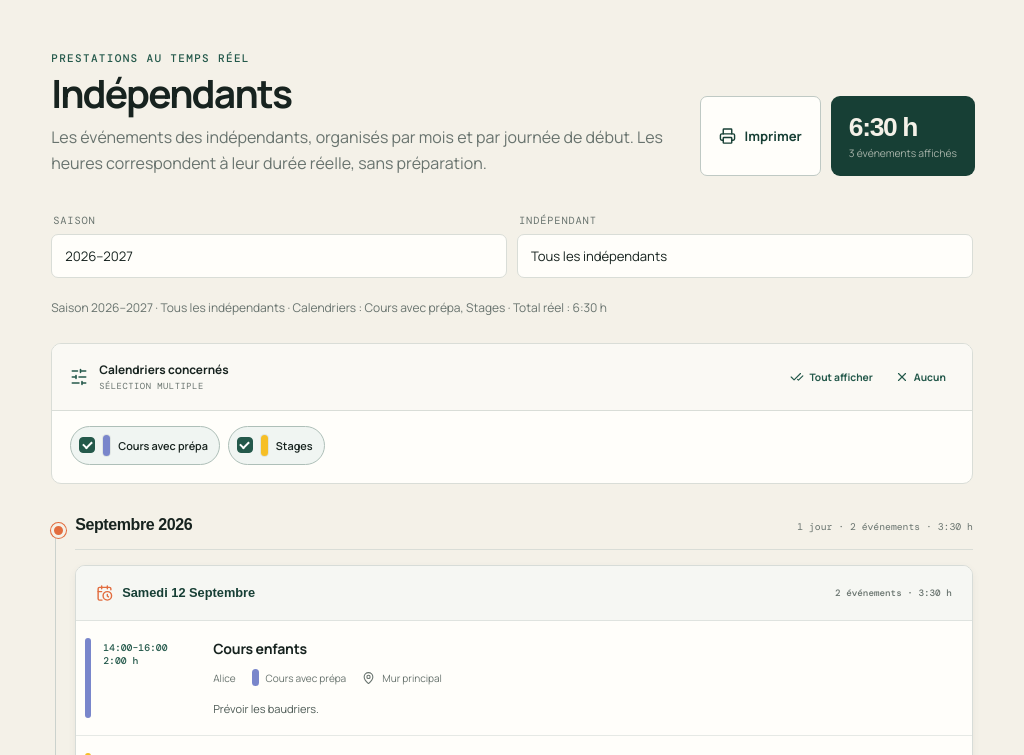
Test case: IndependentEventsPage › allows several source calendars to be selected independently
The width and height of the screenshot is (1024, 755).
Expected: the checkbox labelled "Stages" is checked, [228,426,324,465]
What coordinates should you click on to do the following:
click the checkbox labelled "Cours avec prépa"
I would click on:
 (145, 445)
Its box is [70,426,220,465].
(page scrolled)
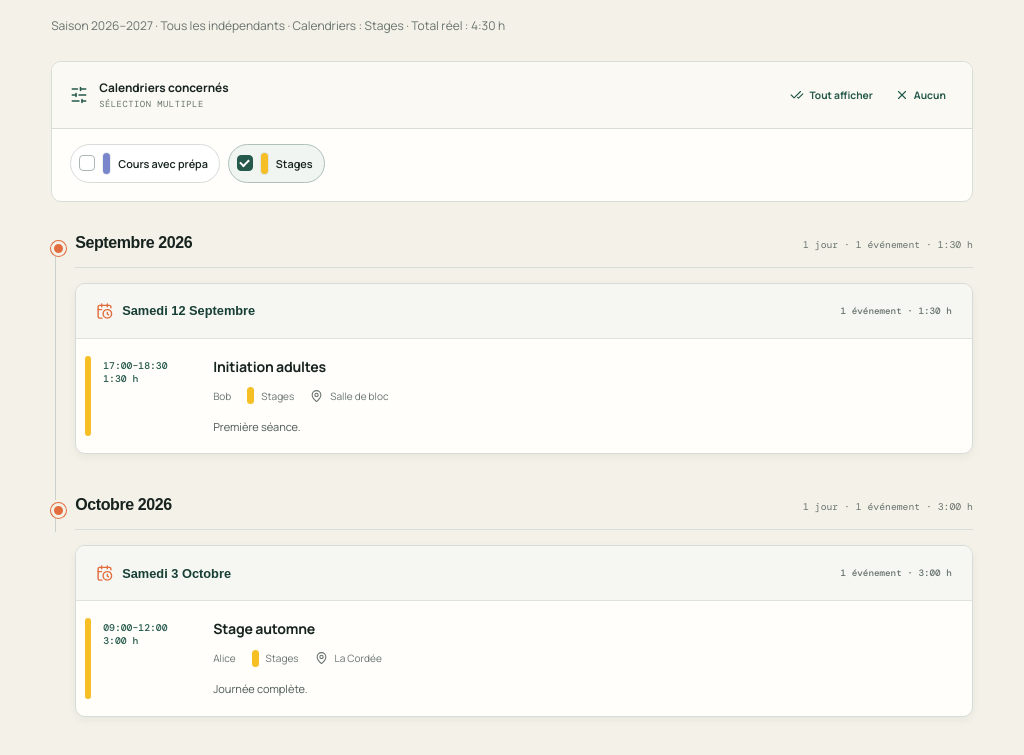
Expected: the element "Samedi 12 septembre" is shown, [75,283,973,454]
Result: the heading "Cours enfants" is gone
